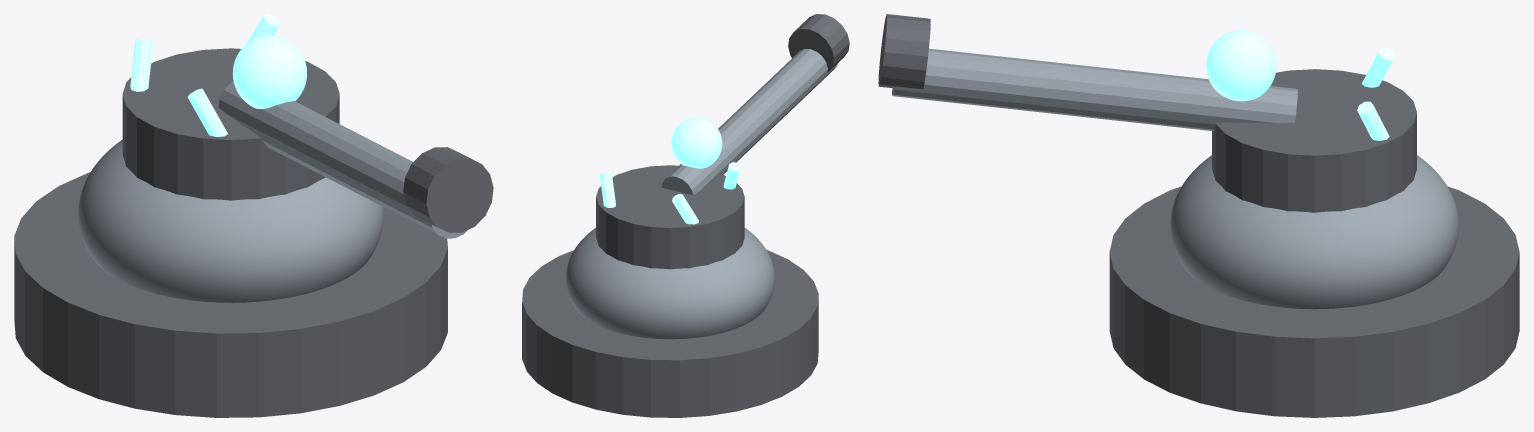
File: mech_turret.glb
The picture shows the model from 3 angles, left to right: view 1: azimuth 30°, elevation 25°; view 2: azimuth 150°, elevation 25°; view 3: azimuth 270°, elevation 25°; orthographic projection. The views are drawn at different scales.
Visible parts, largest first — view 1: Turret_Base, Turret_Dome, Turret_Ring, Turret_Barrel, Turret_Muzzle, Turret_EnergyCore, Turret_Sensor_1, Turret_Sensor_2, Turret_Sensor_0; view 2: Turret_Base, Turret_Dome, Turret_Ring, Turret_Barrel, Turret_Muzzle, Turret_EnergyCore, Turret_Sensor_0, Turret_Sensor_1, Turret_Sensor_2; view 3: Turret_Base, Turret_Dome, Turret_Ring, Turret_Barrel, Turret_EnergyCore, Turret_Muzzle, Turret_Sensor_1, Turret_Sensor_0.
Part boxes in pixels (box(x1,y1,x2,y2)): Turret_Base: box(14, 172, 447, 417); Turret_Dome: box(78, 139, 383, 302); Turret_Ring: box(122, 48, 339, 200); Turret_Barrel: box(218, 81, 467, 238); Turret_Muzzle: box(403, 147, 493, 232); Turret_EnergyCore: box(232, 35, 306, 108); Turret_Sensor_1: box(130, 39, 153, 91); Turret_Sensor_2: box(187, 88, 227, 136); Turret_Sensor_0: box(246, 14, 279, 43); Turret_Base: box(522, 250, 818, 417); Turret_Dome: box(566, 228, 774, 339); Turret_Ring: box(596, 165, 744, 269); Turret_Barrel: box(661, 49, 837, 195); Turret_Muzzle: box(788, 14, 849, 71); Turret_EnergyCore: box(671, 117, 722, 168); Turret_Sensor_0: box(599, 172, 615, 207); Turret_Sensor_1: box(672, 194, 698, 224); Turret_Sensor_2: box(723, 162, 740, 189); Turret_Base: box(1109, 186, 1519, 417); Turret_Dome: box(1170, 155, 1458, 309); Turret_Ring: box(1212, 69, 1416, 212); Turret_Barrel: box(892, 48, 1297, 130); Turret_EnergyCore: box(1206, 30, 1276, 101); Turret_Muzzle: box(878, 14, 930, 89); Turret_Sensor_1: box(1361, 48, 1394, 87); Turret_Sensor_0: box(1357, 101, 1389, 140).
Bounding box in the file's own units: 0.56 × 0.4732 × 0.8758.
